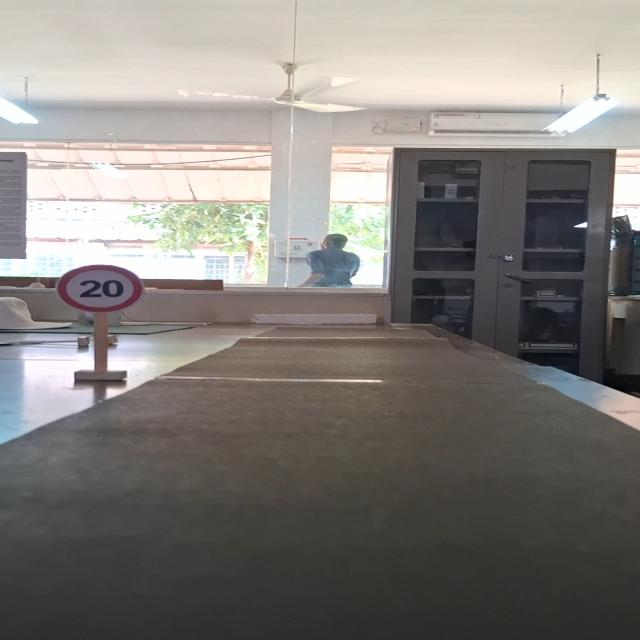Speed20: (53, 263, 147, 313)
